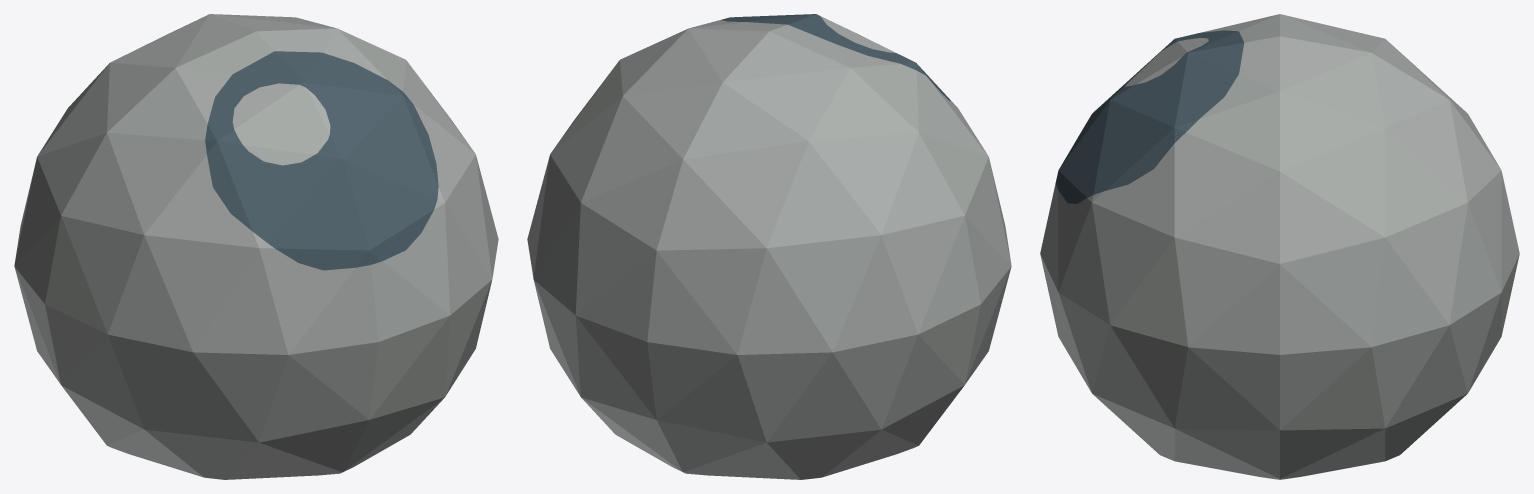
3 renders of one model, left to right at view 1: azimuth 30°, elevation 25°; view 2: azimuth 150°, elevation 25°; view 3: azimuth 270°, elevation 25°, orthographic.
Visible parts, largest first — view 1: world; view 2: world; view 3: world.
Boxes of the visible parts, x1=… form: world: x1=14, y1=14, x2=498, y2=479; world: x1=527, y1=14, x2=1011, y2=479; world: x1=1040, y1=14, x2=1519, y2=479.
Bounding box in the file's own units: 0.0102 × 0.00882 × 0.0102.
